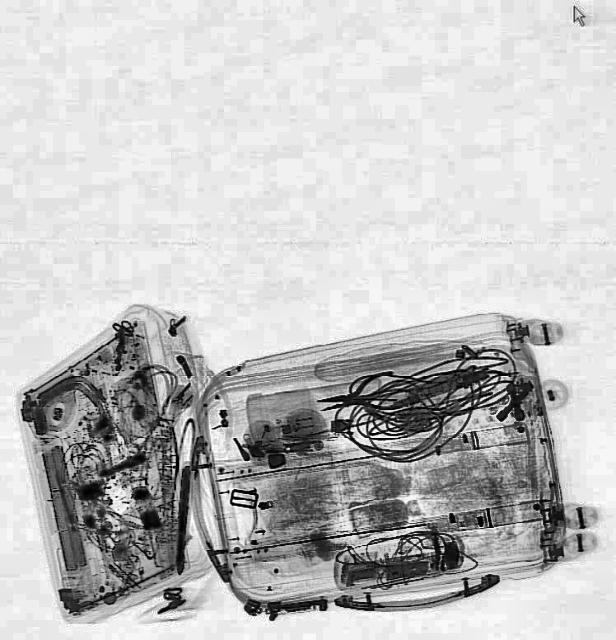Pliers: (313, 368, 401, 424)
